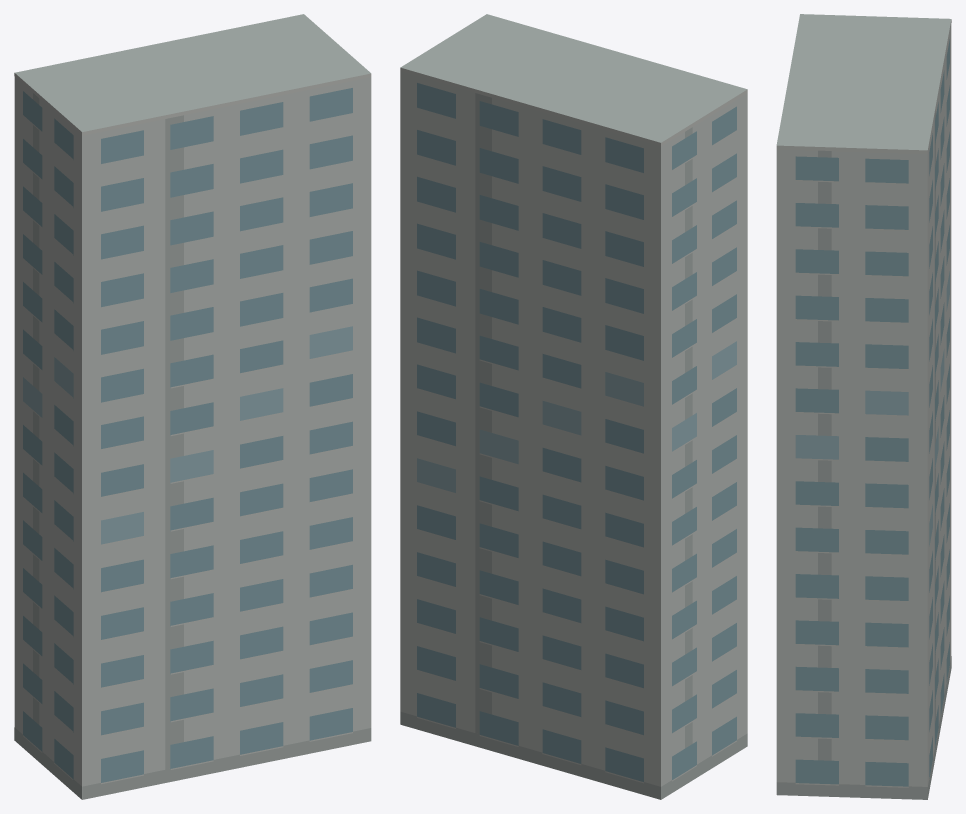
File: residential-dc88d64f-b192-4257-a577-c8f774231b08.glb
3 renders of one model, left to right at view 1: azimuth 30°, elevation 25°; view 2: azimuth 150°, elevation 25°; view 3: azimuth 270°, elevation 25°, orthographic. The views are drawn at different scales.
Parts seen in each view (by area): view 1: residential-dc88d64f-b192-4257-a577-c8f774231b08.tmp; view 2: residential-dc88d64f-b192-4257-a577-c8f774231b08.tmp; view 3: residential-dc88d64f-b192-4257-a577-c8f774231b08.tmp.
Boxes of the visible parts, left/top/right/bottom form: residential-dc88d64f-b192-4257-a577-c8f774231b08.tmp: left=14, top=14, right=371, bottom=799; residential-dc88d64f-b192-4257-a577-c8f774231b08.tmp: left=400, top=14, right=747, bottom=799; residential-dc88d64f-b192-4257-a577-c8f774231b08.tmp: left=776, top=14, right=951, bottom=799.
Bounding box in the file's own units: 19.38 × 43 × 10.51.
